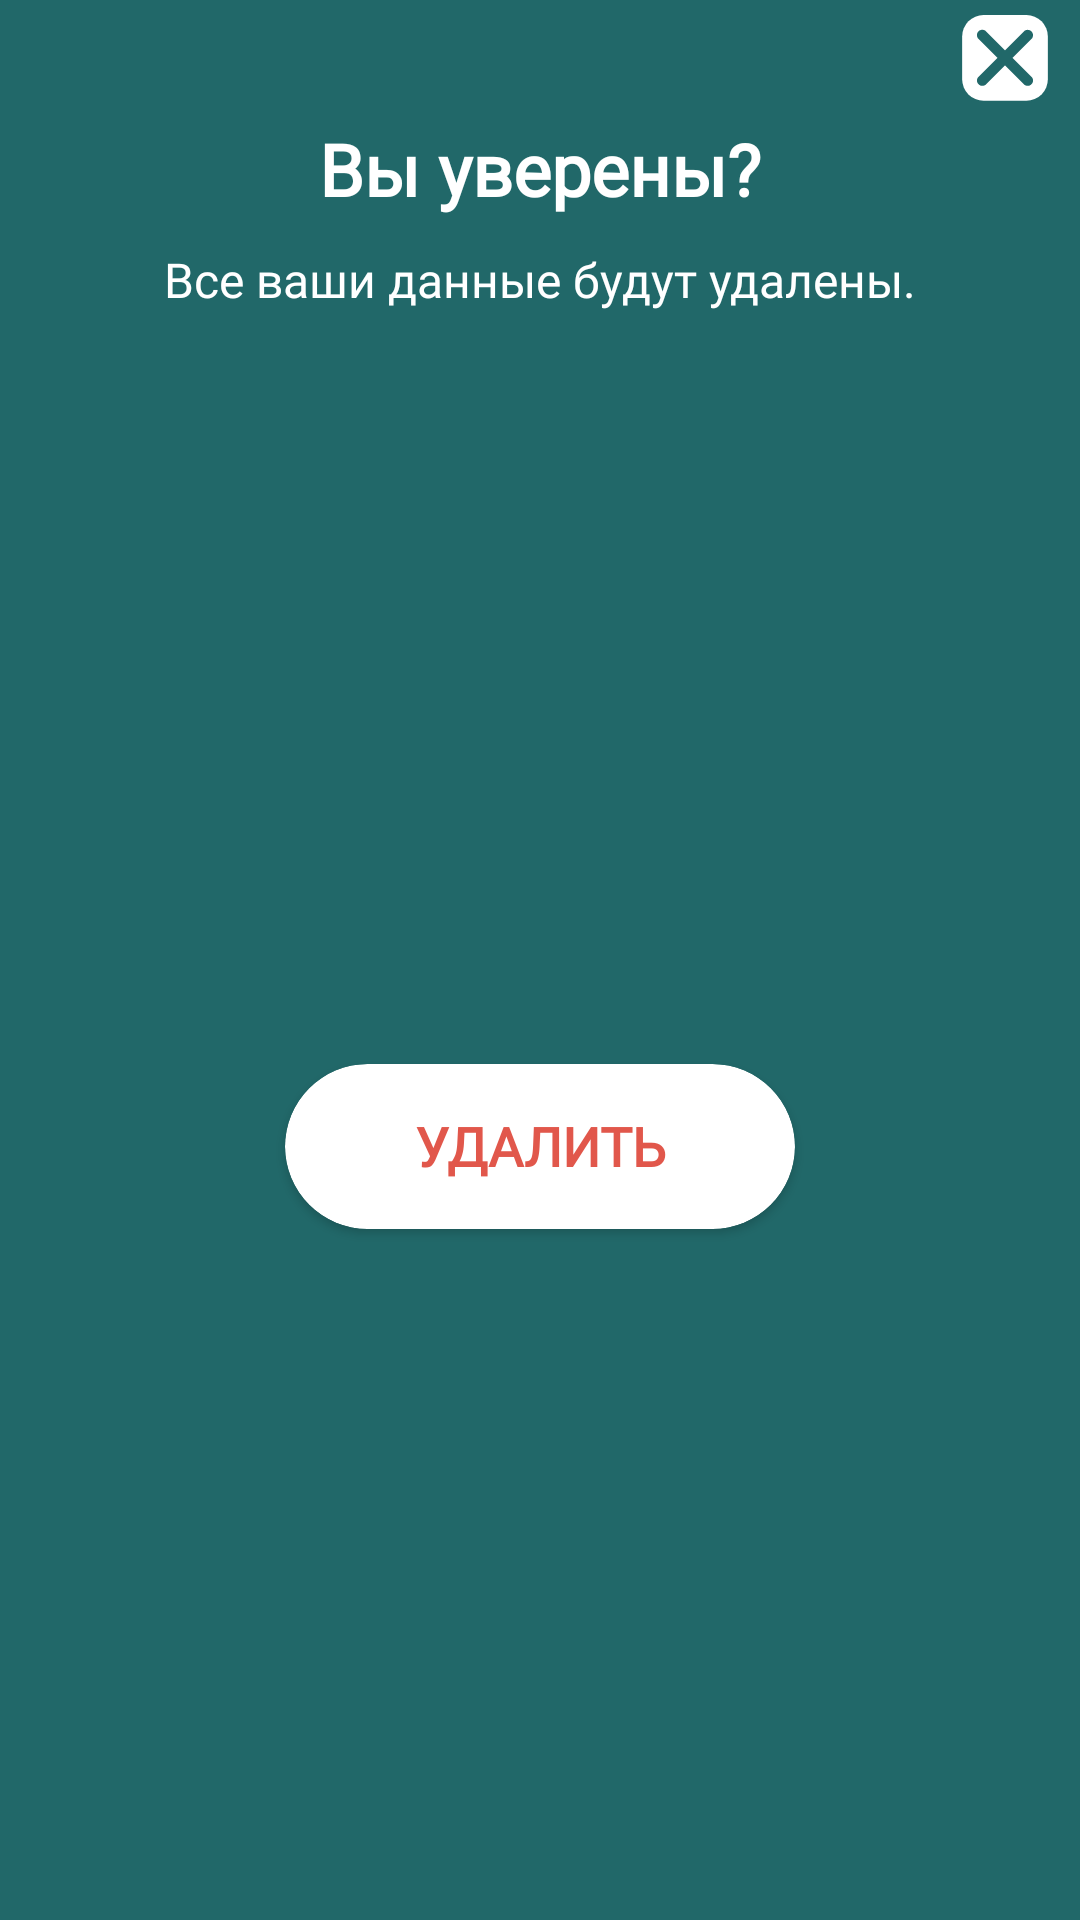

Where to tap for icons on this 1080x1920 app screen, as point (x, y):
close plus: point (1005, 58)
